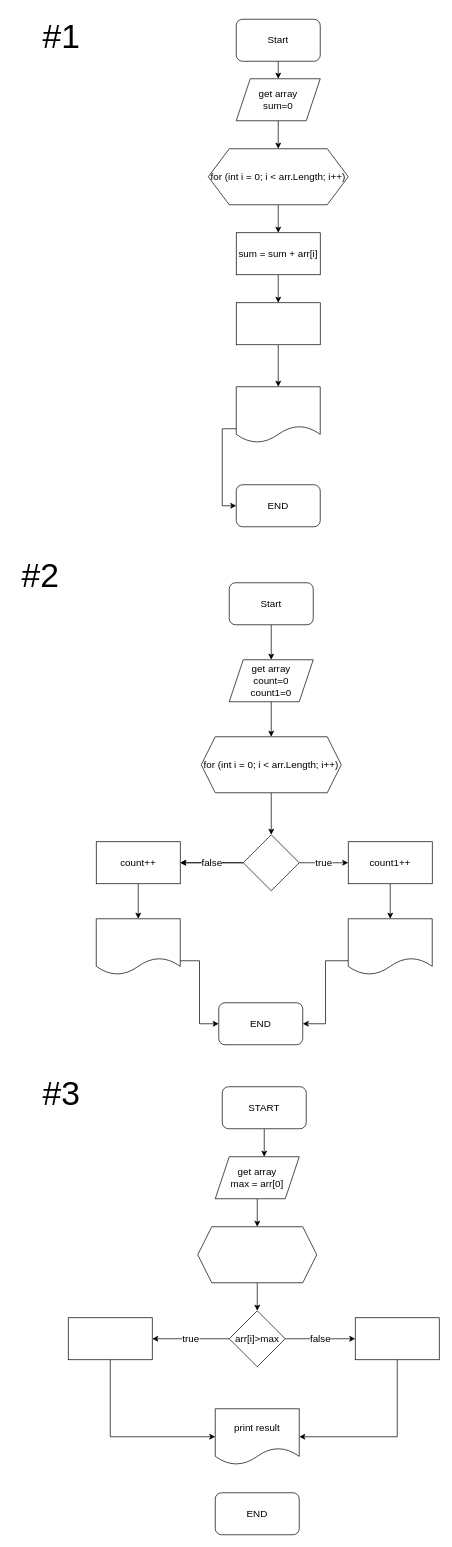
The diagram is 452 pixels wide and 1547 high, and some of its shapes have lost their labels. Here are the shapes that lost their labels. From the top down, the box of each, then its label:
(236, 302, 320, 345): float avarage = sum/arr.Length
(236, 386, 320, 443): result
(243, 834, 299, 891): arr[i] < 0
(96, 918, 180, 975): count of positive
(348, 918, 432, 975): count of negative
(197, 1226, 317, 1283): (int i = 0; i < arr.Length; i++)
(68, 1317, 152, 1360): max = arr[i]
(355, 1317, 439, 1360): max=arr[0]
